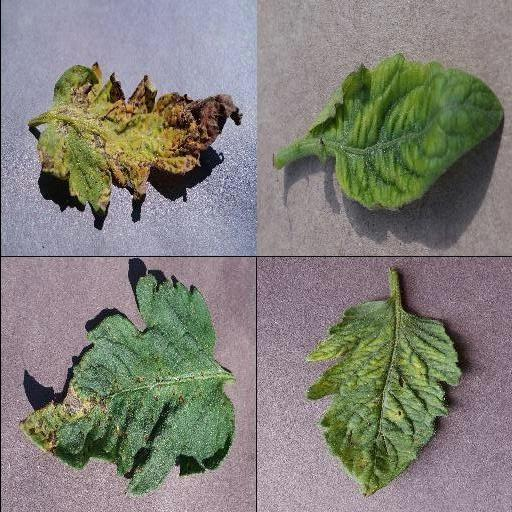Mosaic Virus: (303, 298, 461, 498)
Septoria: (13, 273, 237, 494), (39, 62, 243, 212)
Yellow Leaf Curl Virus: (308, 54, 504, 212)
